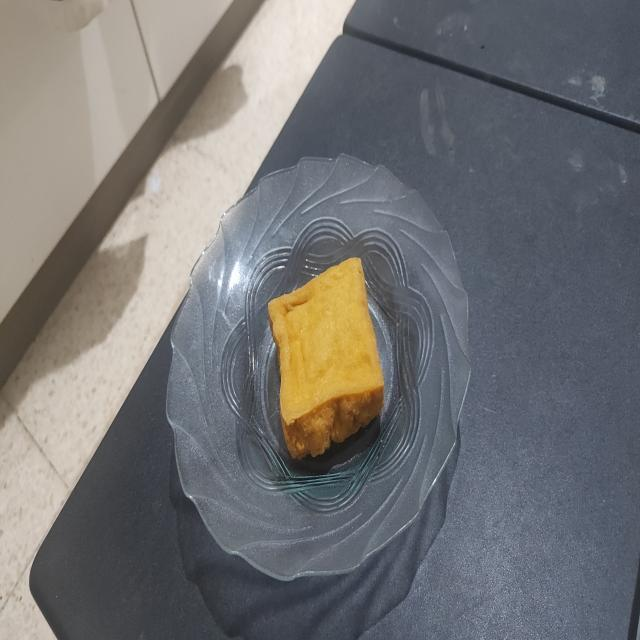tahu_goreng: (268, 257, 384, 459)
